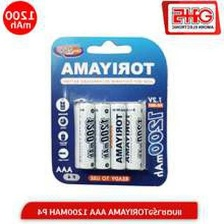battery: (119, 98, 147, 171), (90, 101, 116, 172), (72, 100, 98, 170), (106, 99, 128, 172)
